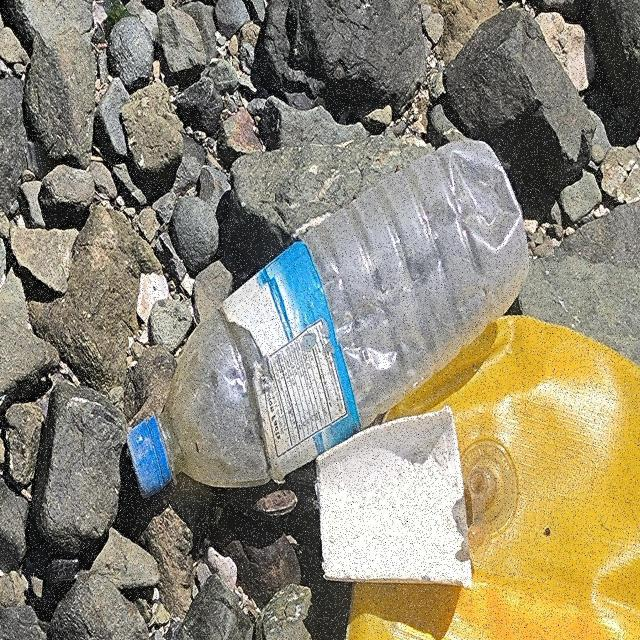plastic_waste: (126, 139, 532, 499)
